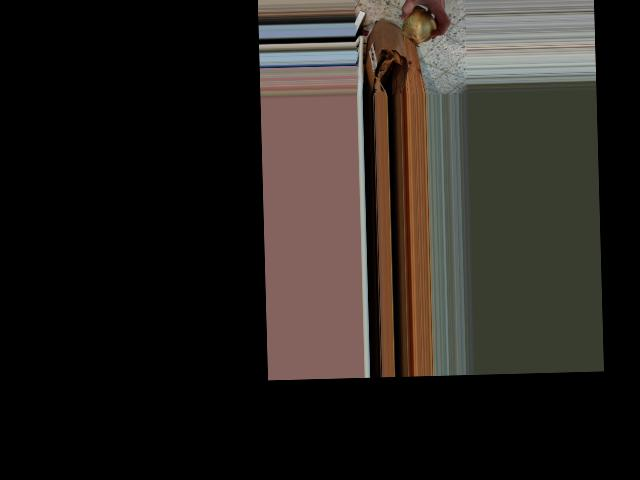onion: (400, 2, 437, 46)
